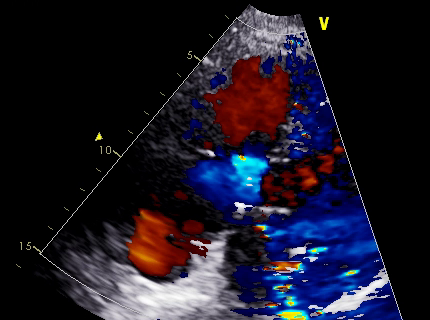TR: (191, 135, 267, 193)
